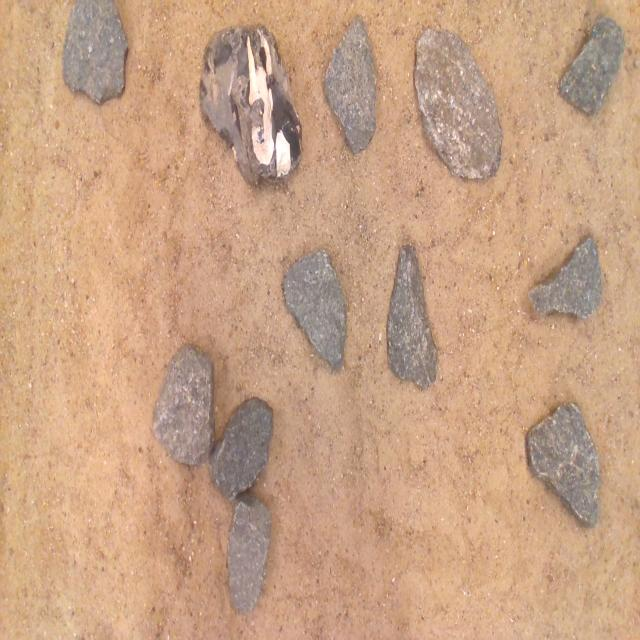rock: (200, 25, 301, 183), (414, 30, 502, 178), (527, 403, 599, 526), (282, 249, 346, 367), (152, 345, 214, 465), (324, 17, 376, 153), (387, 245, 436, 388), (63, 0, 127, 103), (559, 17, 624, 113), (210, 398, 272, 498), (528, 236, 601, 318), (228, 494, 271, 611)
